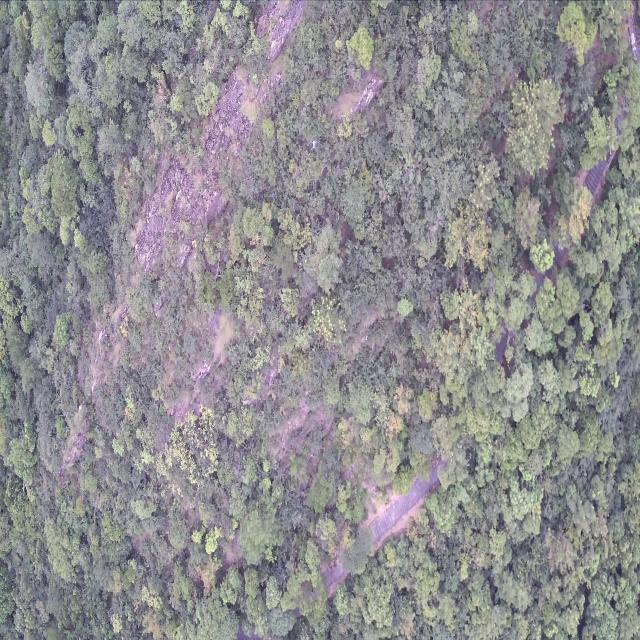UAV: (310, 140, 317, 150)
